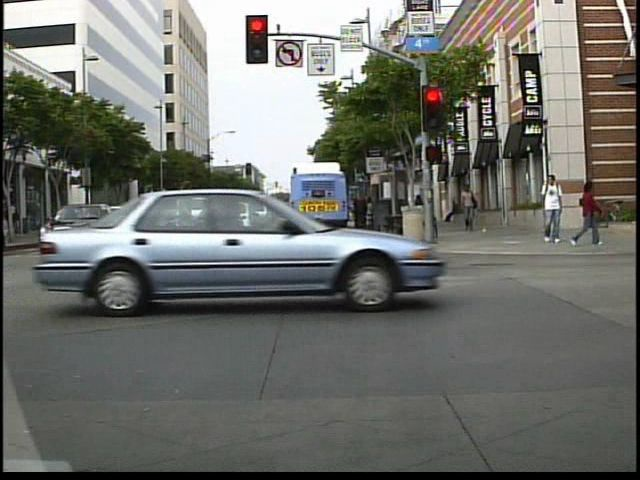person: (572, 177, 603, 248)
